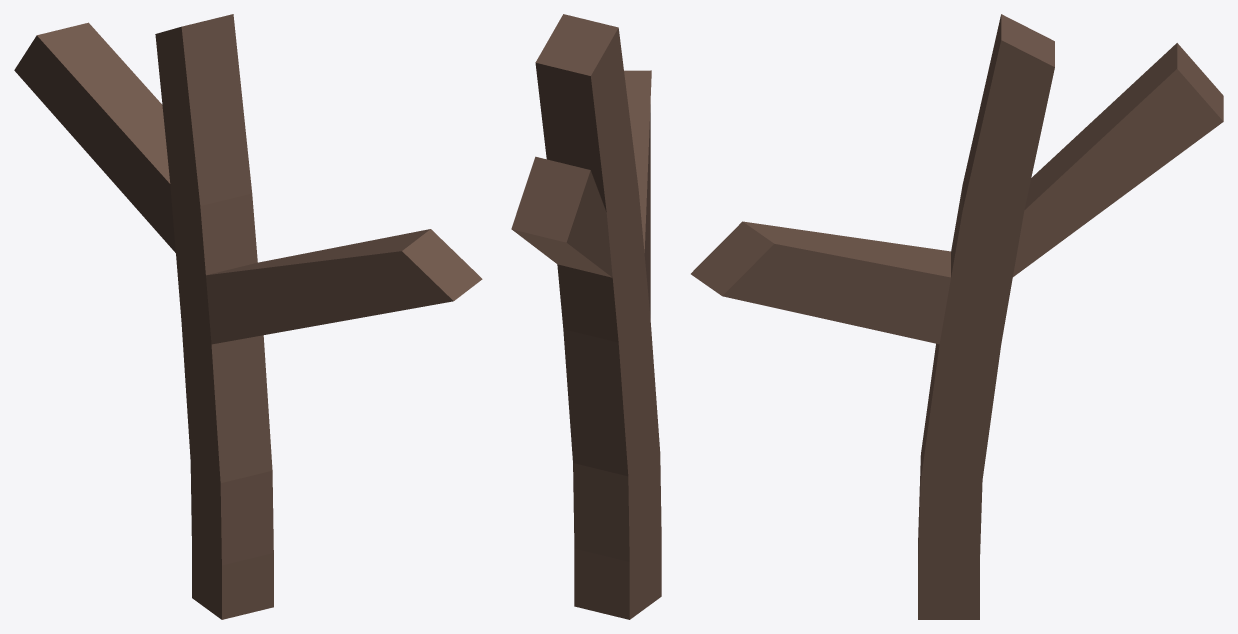
Rendered from deadtree.gltf.
3 renders of one model, left to right at view 1: azimuth 30°, elevation 25°; view 2: azimuth 150°, elevation 25°; view 3: azimuth 270°, elevation 25°, orthographic. The views are drawn at different scales.
Parts seen in each view (by area): view 1: Cube; view 2: Cube; view 3: Cube.
Part boxes in pixels (box(x1,y1,x2,y2)): Cube: box(14, 14, 482, 619); Cube: box(511, 14, 661, 619); Cube: box(691, 14, 1223, 619).
Bounding box in the file's own units: 1.58 × 3.77 × 3.14.
